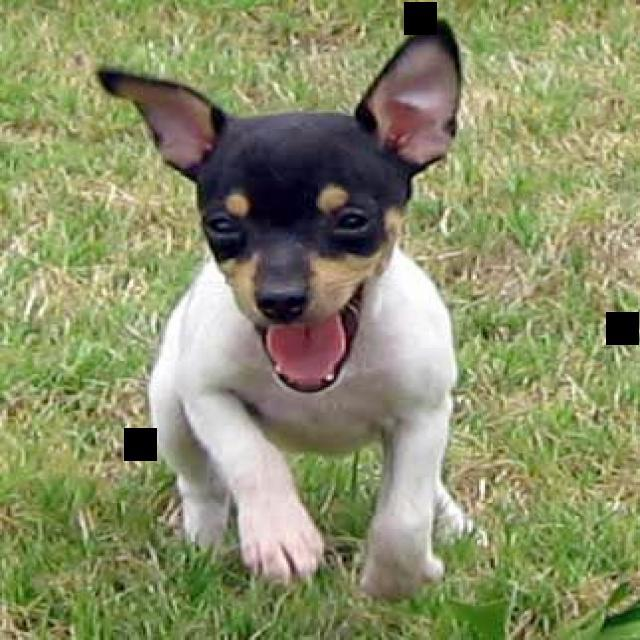puppy-dog: (96, 10, 467, 606)
